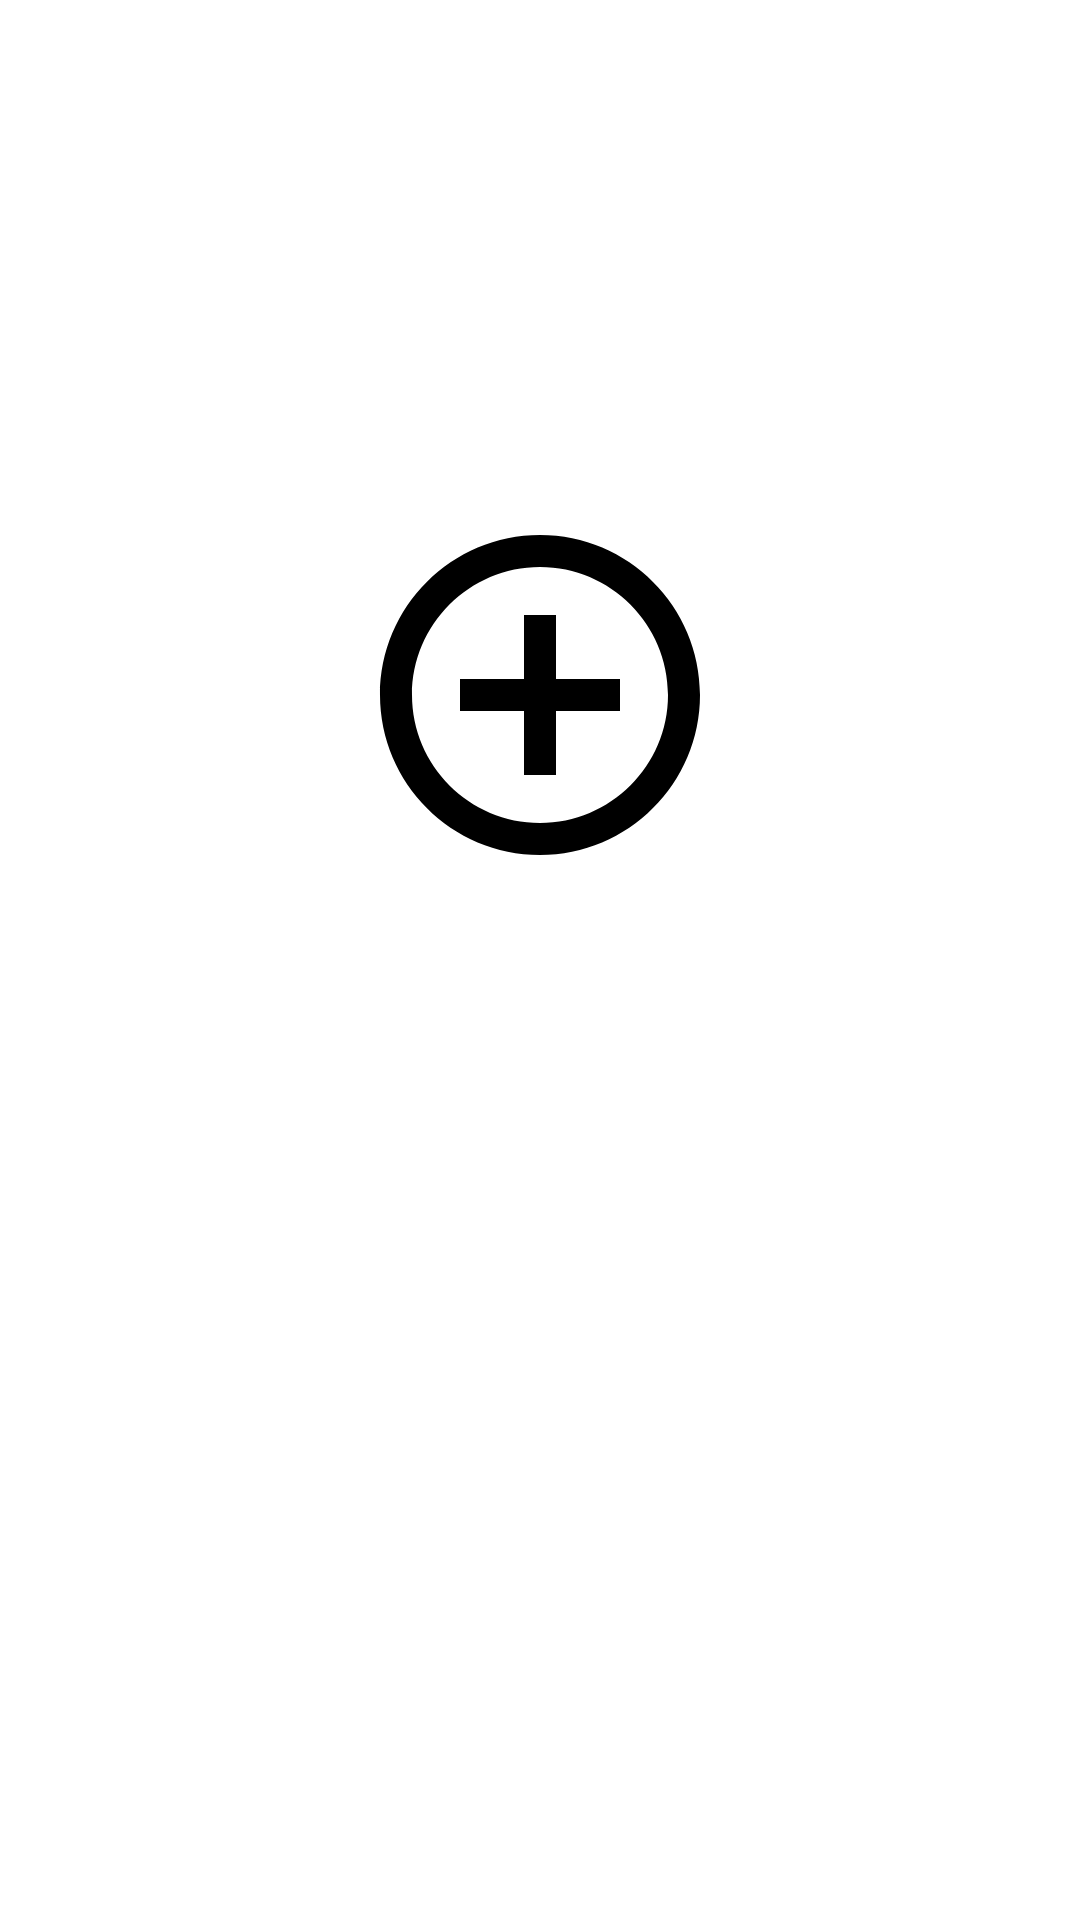

Icons on this 1080×1920 Android screen, each with its box as (x1=x1, y1=y1, x2=x2, y2=y2):
add circle: (x1=380, y1=535, x2=700, y2=855)
